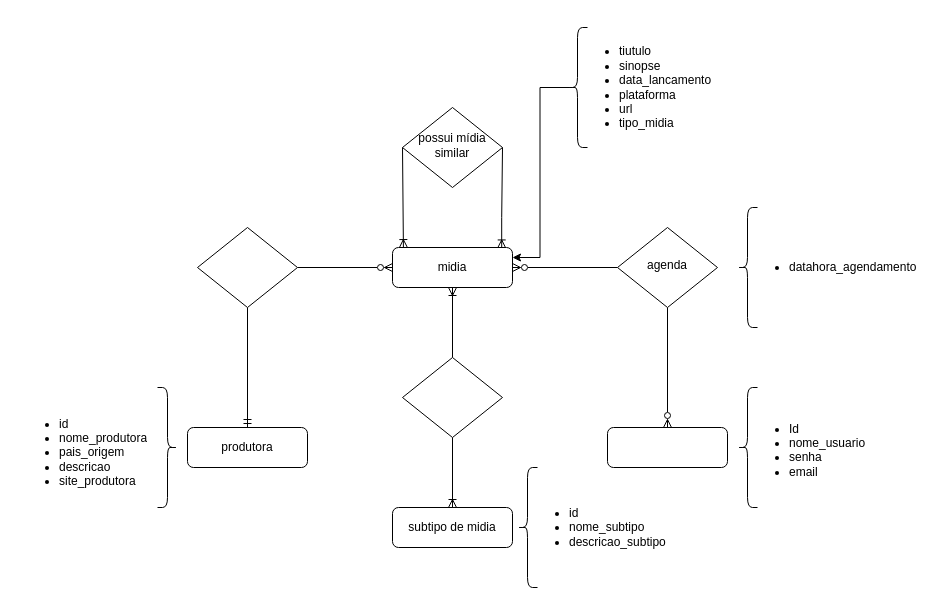
This 944x605 diagram has some shape labels left out. The shapes that lost their labels are listed below. From the top down, each one's centre as x and y in pixels, then its label:
(247,267): produz
(452,397): possui
(667,447): usuario
